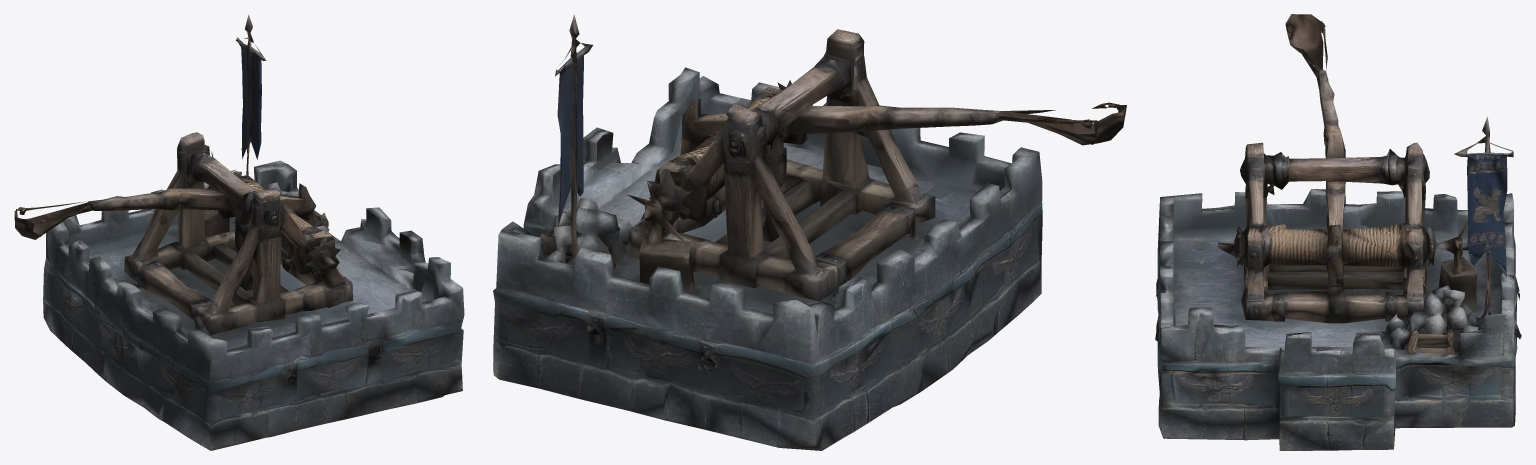
The model's file is def_catapult.glb.
3 views of the same model, side by side, from view 1: azimuth 30°, elevation 25°; view 2: azimuth 150°, elevation 25°; view 3: azimuth 270°, elevation 25° (orthographic). The views are drawn at different scales.
Visible parts, largest first — view 1: tripo_node_7590a560-8afb-4715-93d3-f7260e7e4914; view 2: tripo_node_7590a560-8afb-4715-93d3-f7260e7e4914; view 3: tripo_node_7590a560-8afb-4715-93d3-f7260e7e4914.
Boxes of the visible parts, left/top/right/bottom form: tripo_node_7590a560-8afb-4715-93d3-f7260e7e4914: left=14, top=14, right=464, bottom=450; tripo_node_7590a560-8afb-4715-93d3-f7260e7e4914: left=493, top=14, right=1126, bottom=450; tripo_node_7590a560-8afb-4715-93d3-f7260e7e4914: left=1155, top=14, right=1521, bottom=450.
Size of the model in its own units: 0.9751 by 0.6494 by 0.7317.
1 material, 1 textured.
